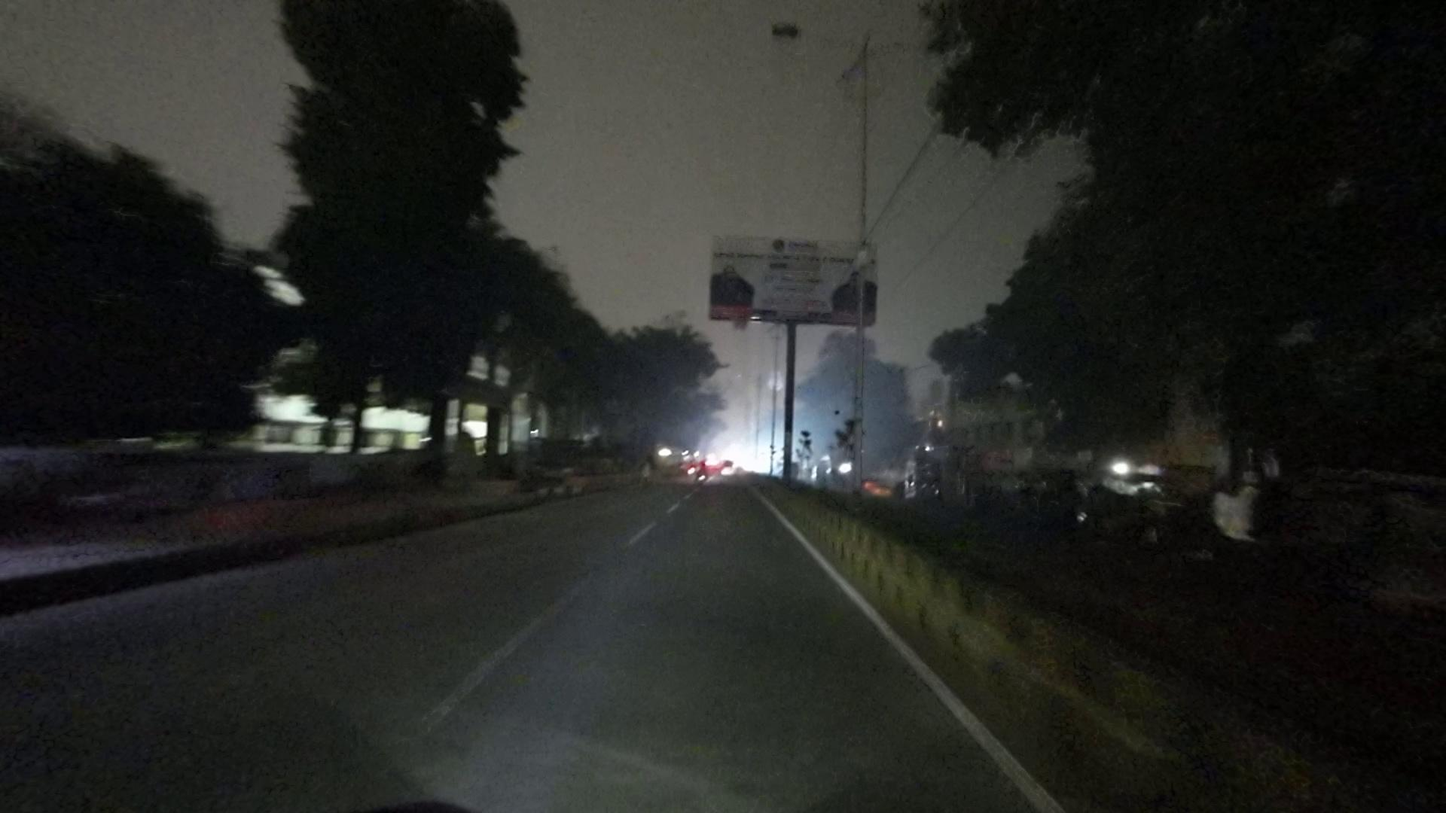streetlight: (770, 16, 856, 53)
